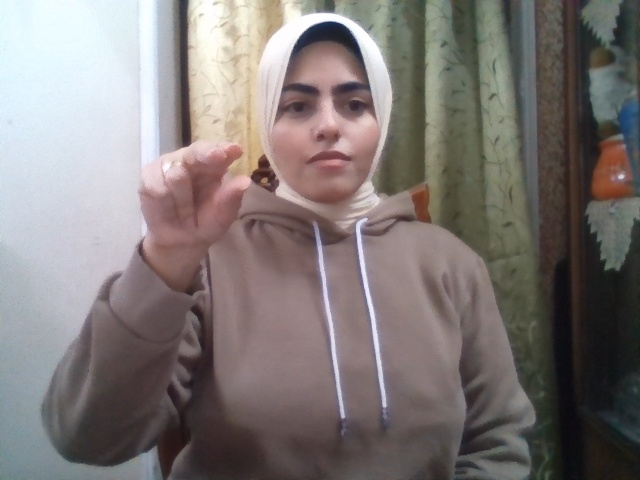no: (137, 140, 251, 253)
